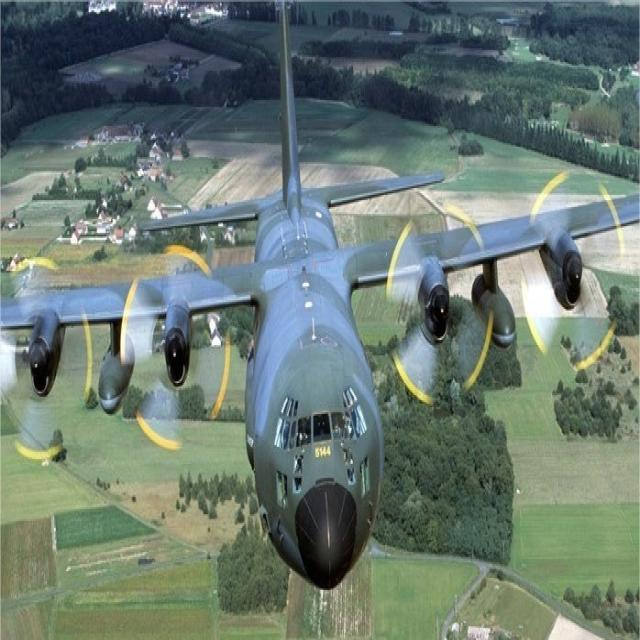C130: (3, 0, 640, 607)
